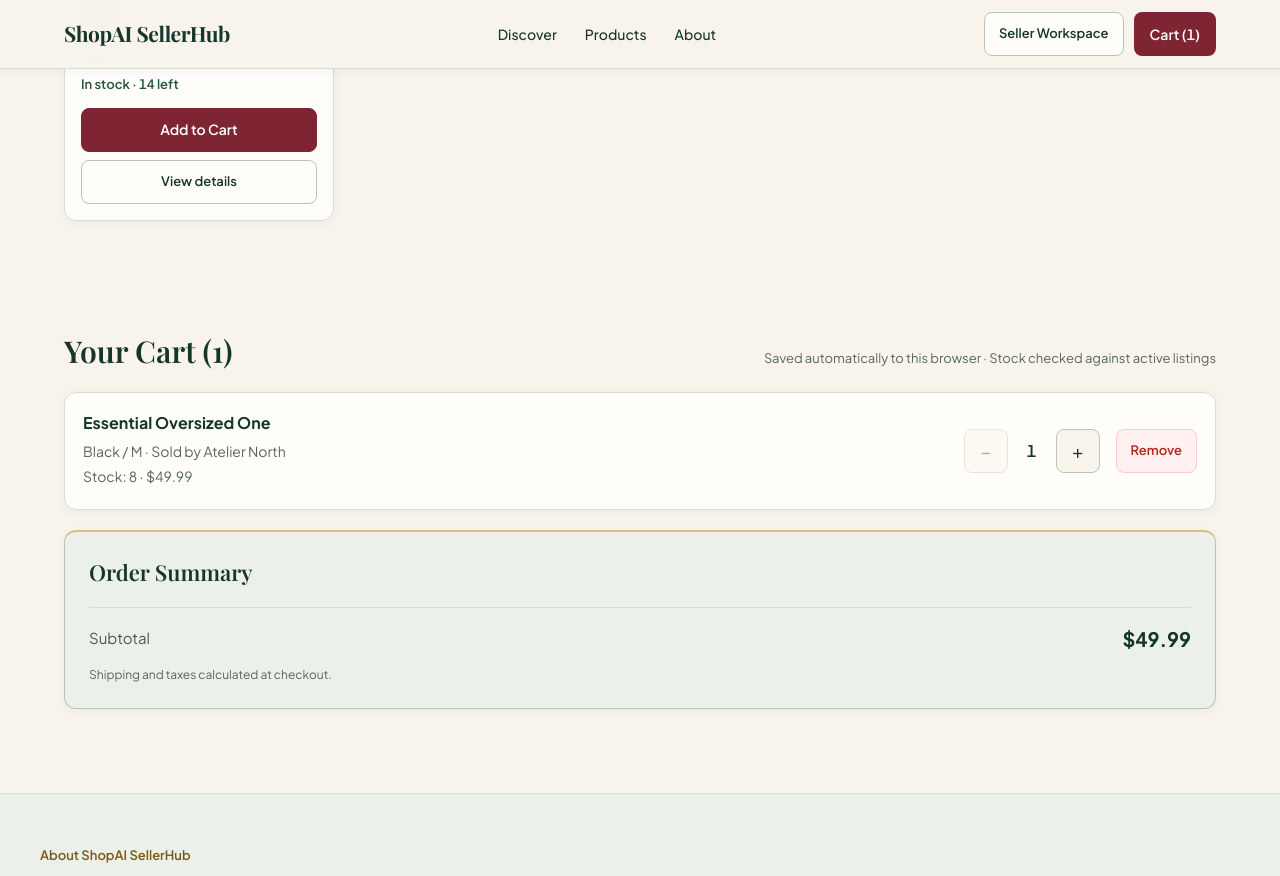
Cart localStorage persistence › persists item removal to localStorage
(page scrolled)
Step 1. Click the button "Remove" → (1156, 451), box [1116,429,1197,473]
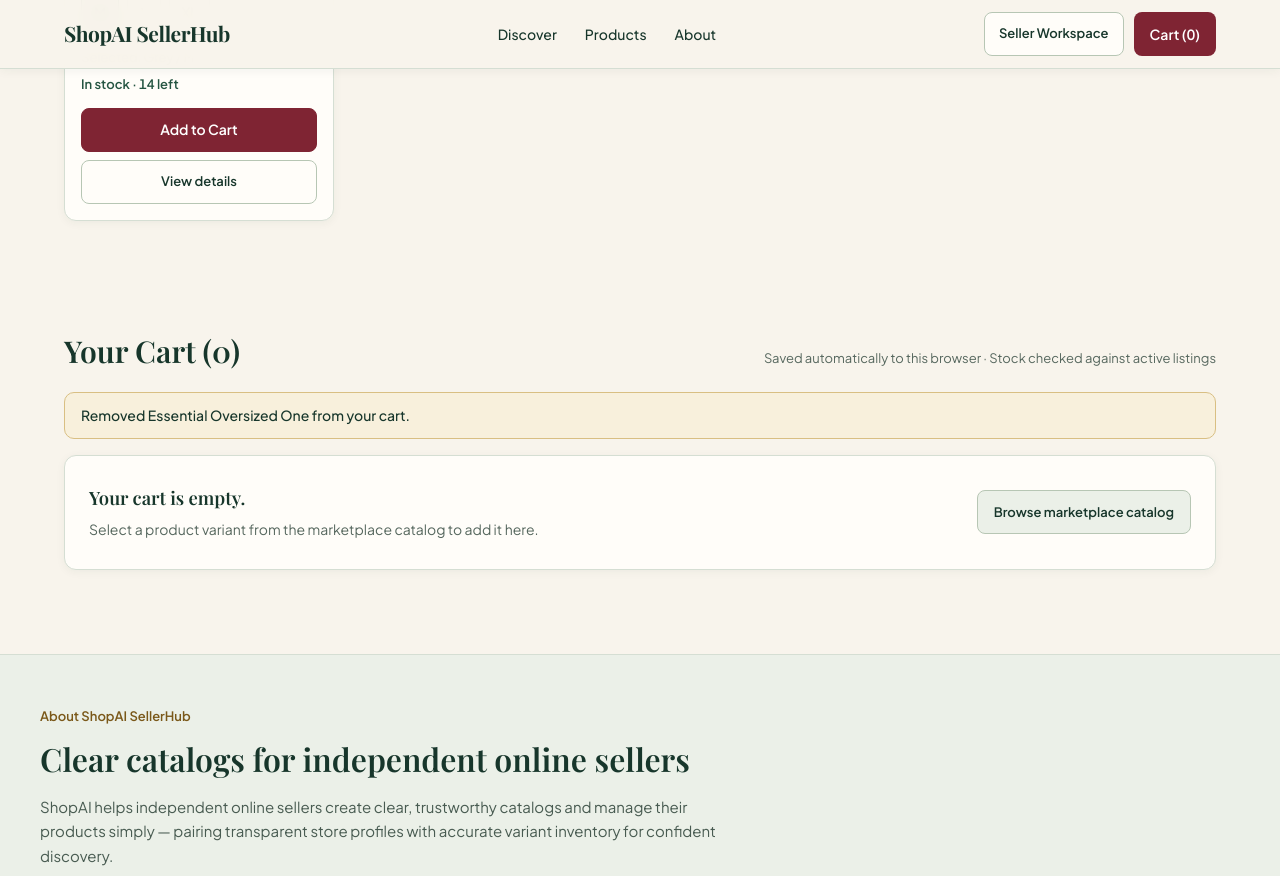
Result: the text "Your cart is empty." is shown at [89,485,245,510]
